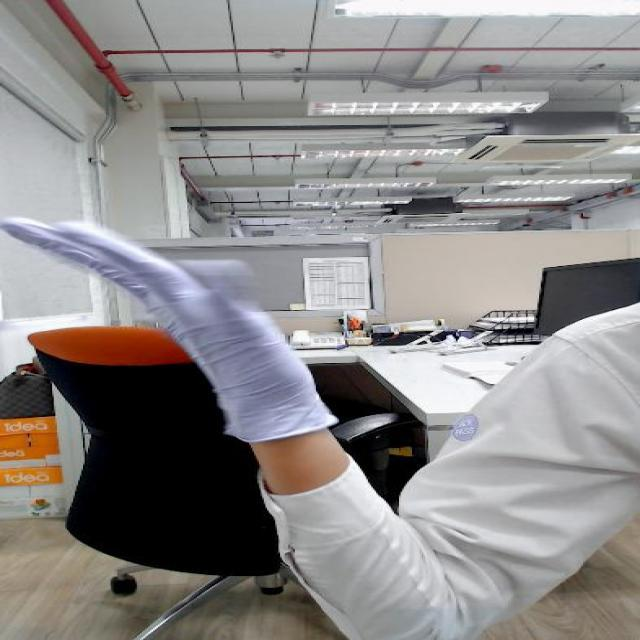with_gloves: (0, 198, 394, 416)
